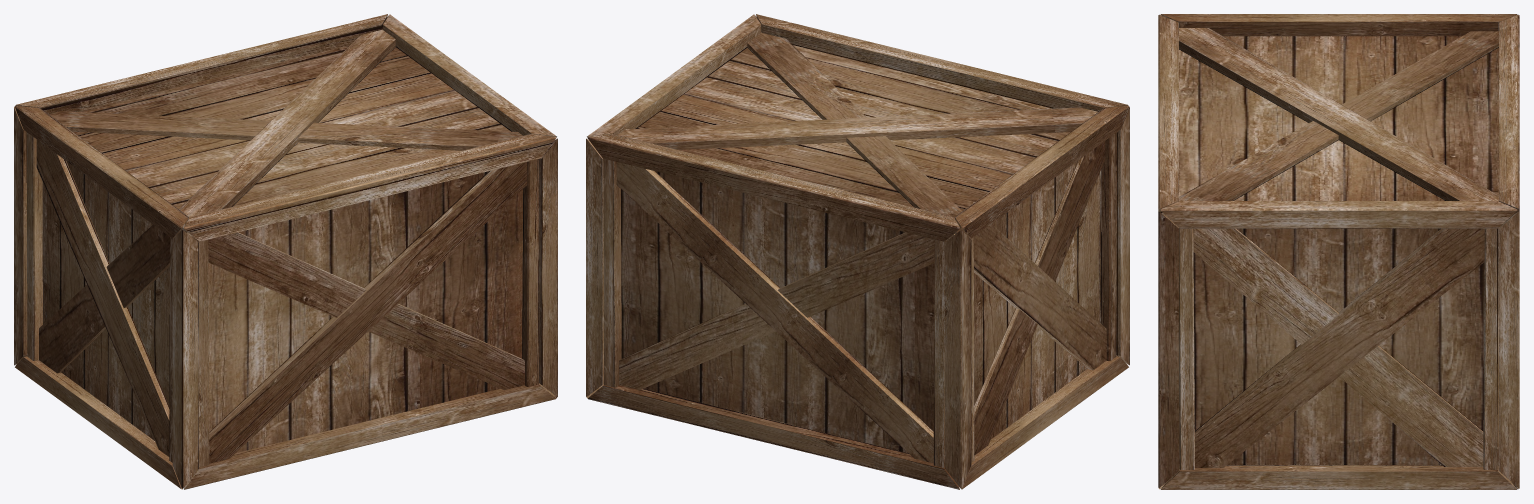
The model's file is Wooden_Box_FAB.fbx.
3 renders of one model, left to right at view 1: azimuth 30°, elevation 25°; view 2: azimuth 150°, elevation 25°; view 3: azimuth 270°, elevation 25°, orthographic. The views are drawn at different scales.
Parts seen in each view (by area): view 1: Wooden_Box_FAB; view 2: Wooden_Box_FAB; view 3: Wooden_Box_FAB.
Part boxes in pixels (box(x1,y1,x2,y2)): Wooden_Box_FAB: box(14, 14, 557, 489); Wooden_Box_FAB: box(586, 14, 1129, 489); Wooden_Box_FAB: box(1158, 14, 1519, 489).
Bounding box in the file's own units: 90 × 60.01 × 70.
Materials: 1 (1 with a texture image).
